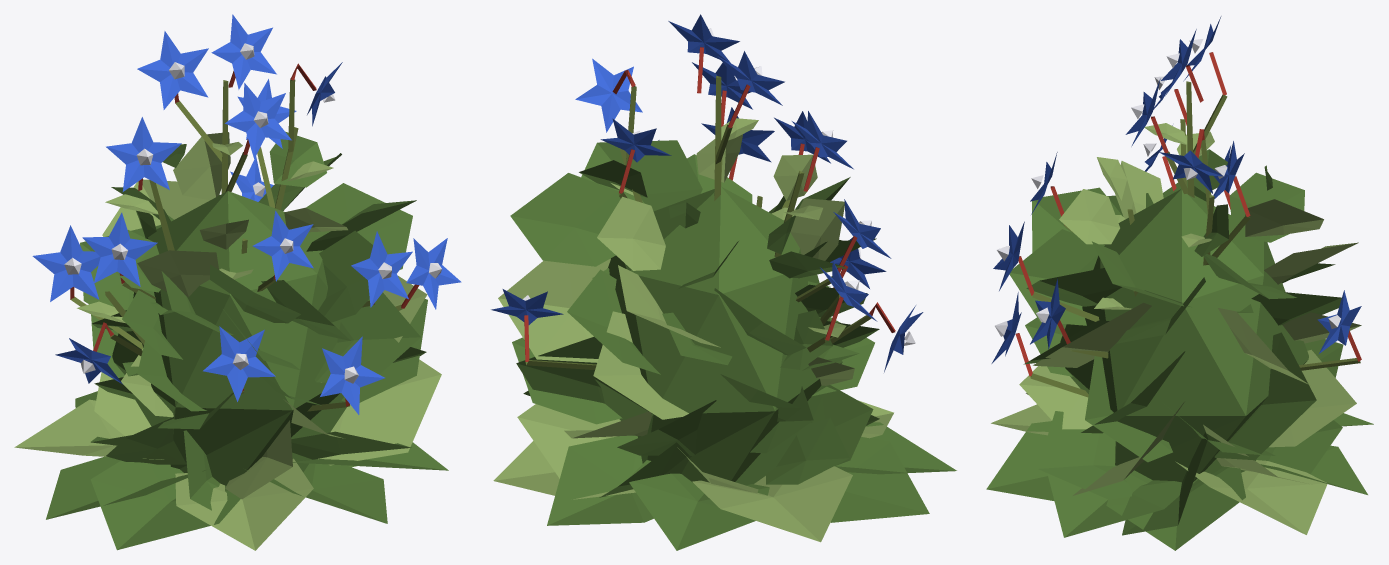
3 views of the same model, side by side, from view 1: azimuth 30°, elevation 25°; view 2: azimuth 150°, elevation 25°; view 3: azimuth 270°, elevation 25° (orthographic). The views are drawn at different scales.
Visible parts, largest first — view 1: leaves, leaves_pale, petals, stems, flower_centres, flower_stalks; view 2: leaves, leaves_pale, petals, stems, flower_stalks; view 3: leaves, leaves_pale, petals, stems, flower_stalks, flower_centres.
Part boxes in pixels (x1,y1,x2,y2): leaves: [46, 131, 448, 550]; leaves_pale: [14, 132, 441, 550]; petals: [32, 14, 461, 414]; stems: [71, 78, 402, 411]; flower_centres: [64, 43, 441, 383]; flower_stalks: [70, 63, 419, 406]; leaves: [510, 140, 956, 550]; leaves_pale: [493, 118, 893, 542]; petals: [491, 14, 923, 372]; stems: [525, 76, 871, 369]; flower_stalks: [524, 47, 895, 361]; leaves: [986, 149, 1373, 550]; leaves_pale: [991, 123, 1361, 534]; petals: [991, 16, 1361, 363]; stems: [1030, 81, 1360, 397]; flower_stalks: [1015, 52, 1361, 376]; flower_centres: [995, 39, 1340, 336].
Size of the model in its own units: 0.3677 by 0.41 by 0.3265.
